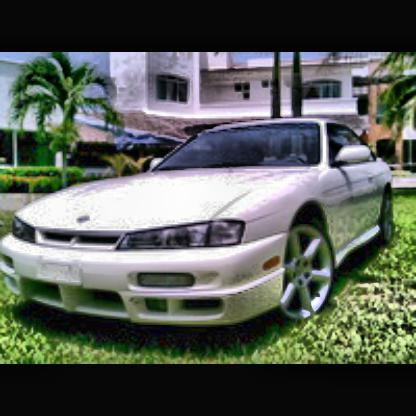Nissan 240SX Coupe 1998: (3, 119, 400, 329)
